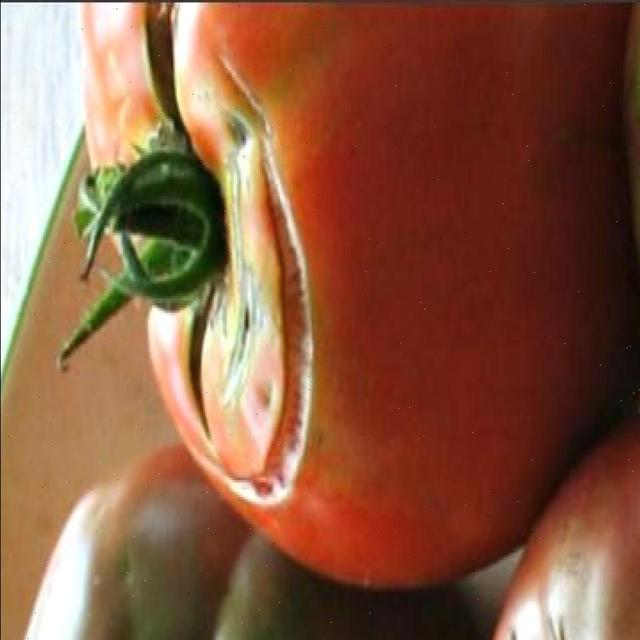Cracking Fruit: (118, 25, 206, 346)
